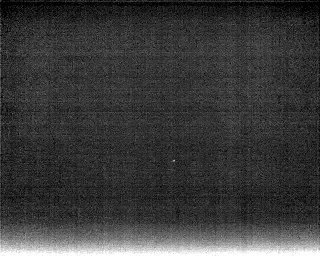BIRD: (170, 157, 177, 165)
